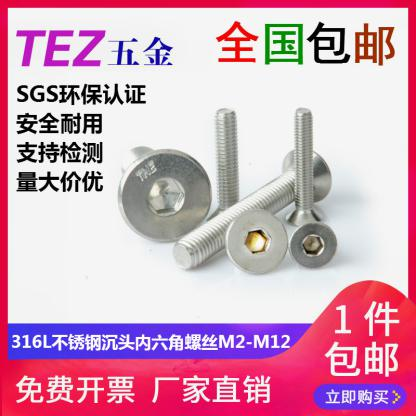FOD: (168, 148, 334, 268), (115, 144, 215, 243), (201, 106, 250, 232), (281, 106, 329, 226), (222, 207, 287, 276), (288, 220, 340, 271)
